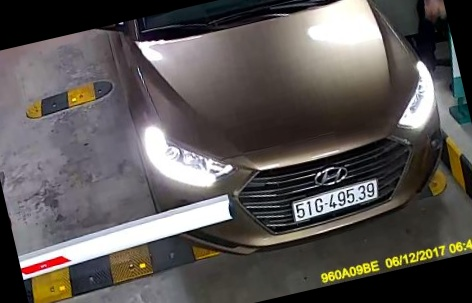plate: (287, 165, 383, 229)
